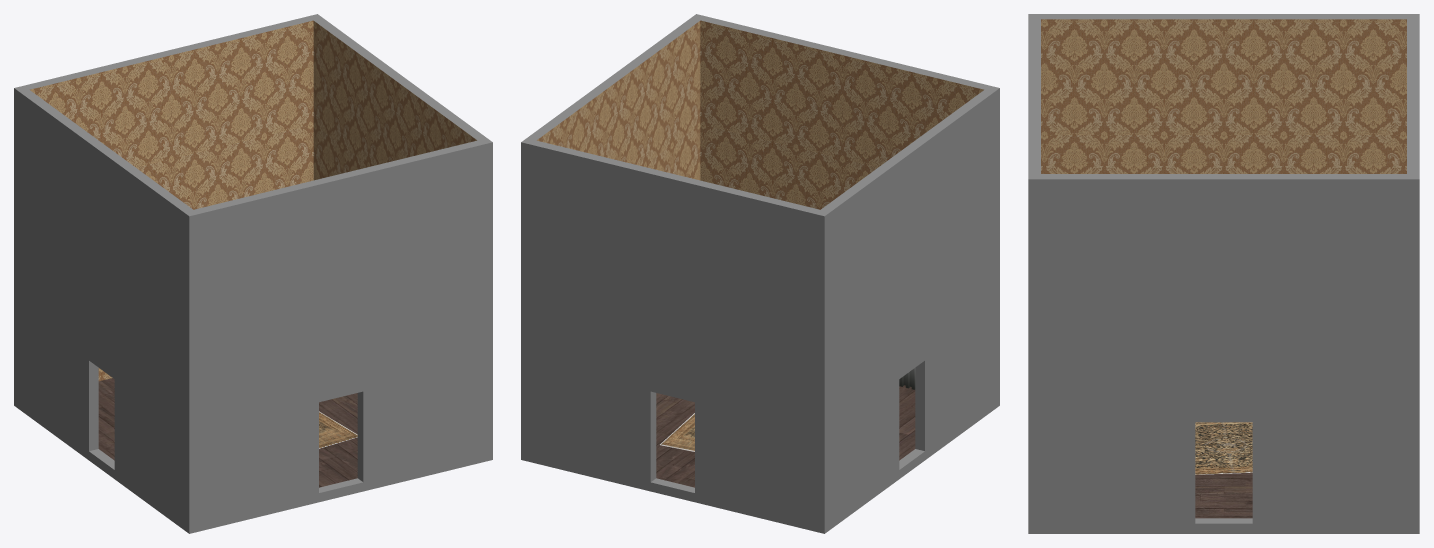
File: Abandoned_Room.FBX
3 views of the same model, side by side, from view 1: azimuth 30°, elevation 25°; view 2: azimuth 150°, elevation 25°; view 3: azimuth 270°, elevation 25° (orthographic). The views are drawn at different scales.
Parts seen in each view (by area): view 1: Abandoned_Room; view 2: Abandoned_Room; view 3: Abandoned_Room.
Part boxes in pixels (x1,y1,x2,y2): Abandoned_Room: [14, 14, 492, 533]; Abandoned_Room: [521, 14, 999, 533]; Abandoned_Room: [1028, 14, 1419, 533].
Size of the model in its own units: 500 by 500 by 500.
